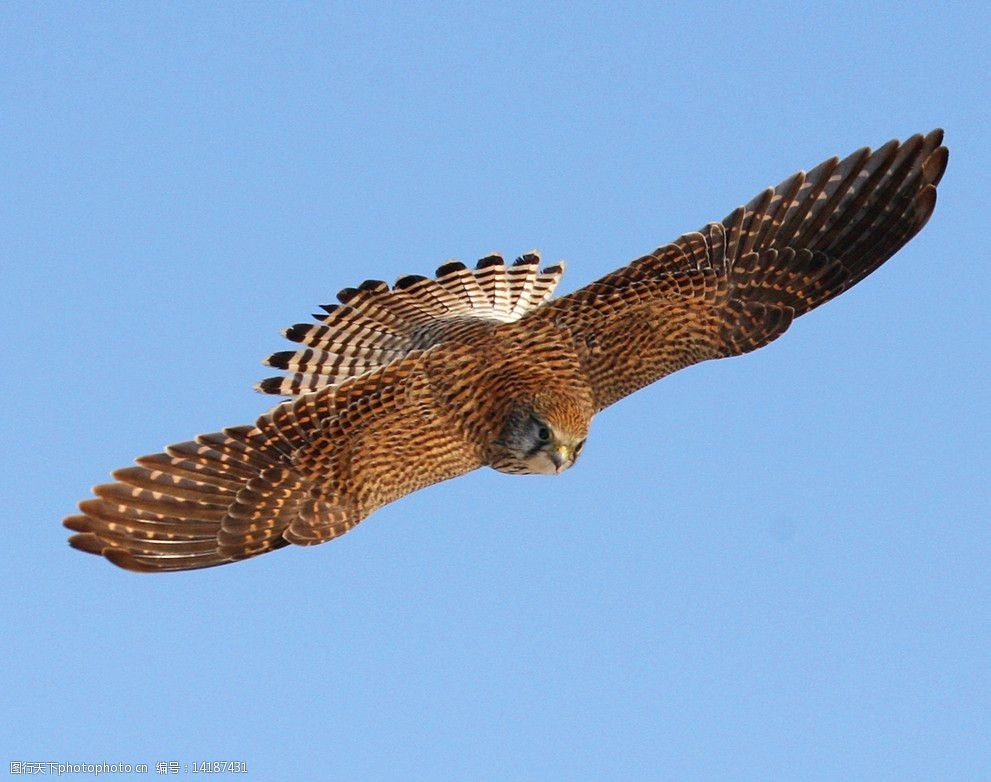bird: (99, 125, 950, 576)
